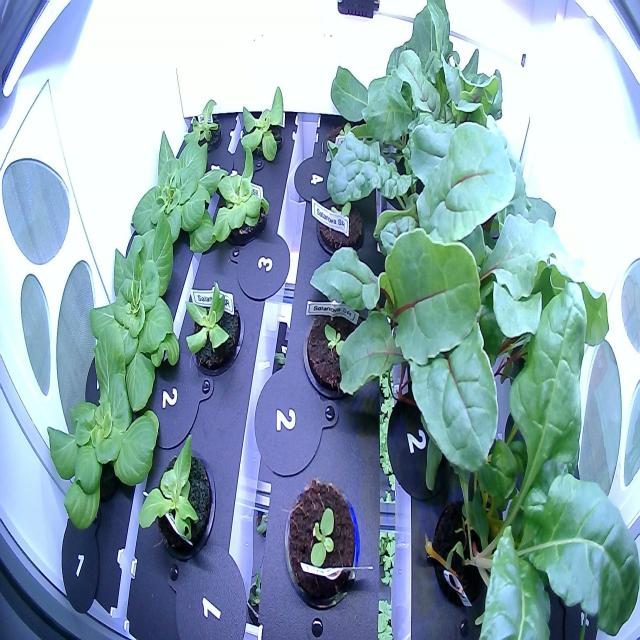germination: (278, 473, 362, 615), (298, 286, 372, 407), (307, 170, 368, 263)
young: (32, 316, 166, 536), (78, 213, 185, 414), (125, 125, 233, 264), (133, 427, 232, 568), (200, 143, 282, 264), (176, 266, 247, 390), (235, 76, 293, 173), (180, 88, 228, 154)
